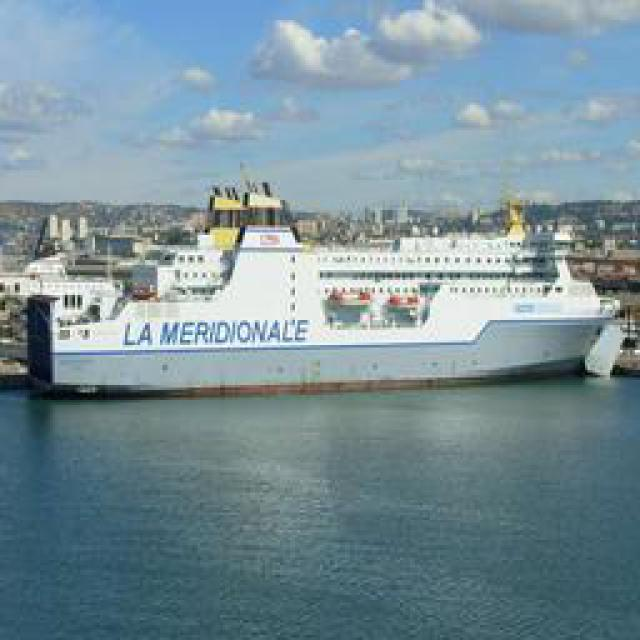Ship: (9, 212, 632, 402)
